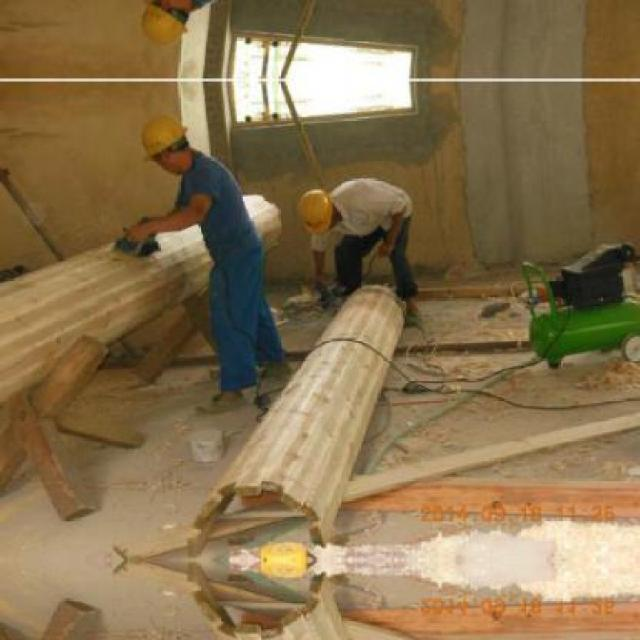boots: (195, 390, 245, 414)
hard-hat: (140, 114, 187, 158), (297, 189, 333, 235)
person: (117, 115, 283, 417), (296, 177, 420, 326)
